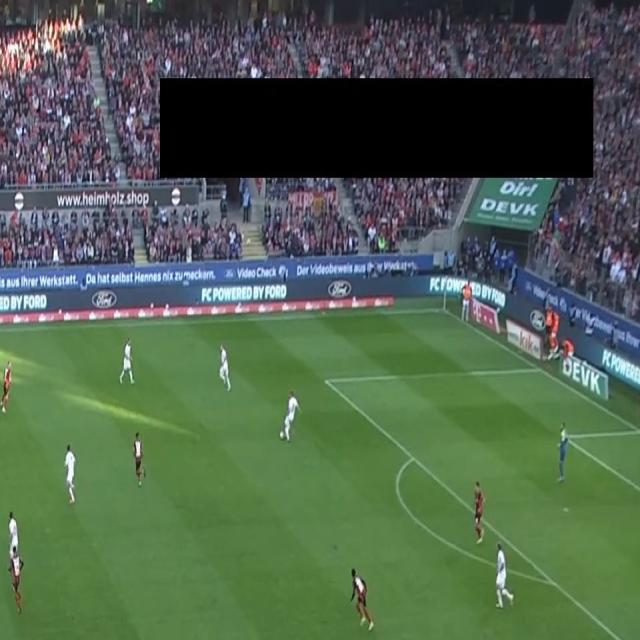ball: (279, 429, 285, 441)
